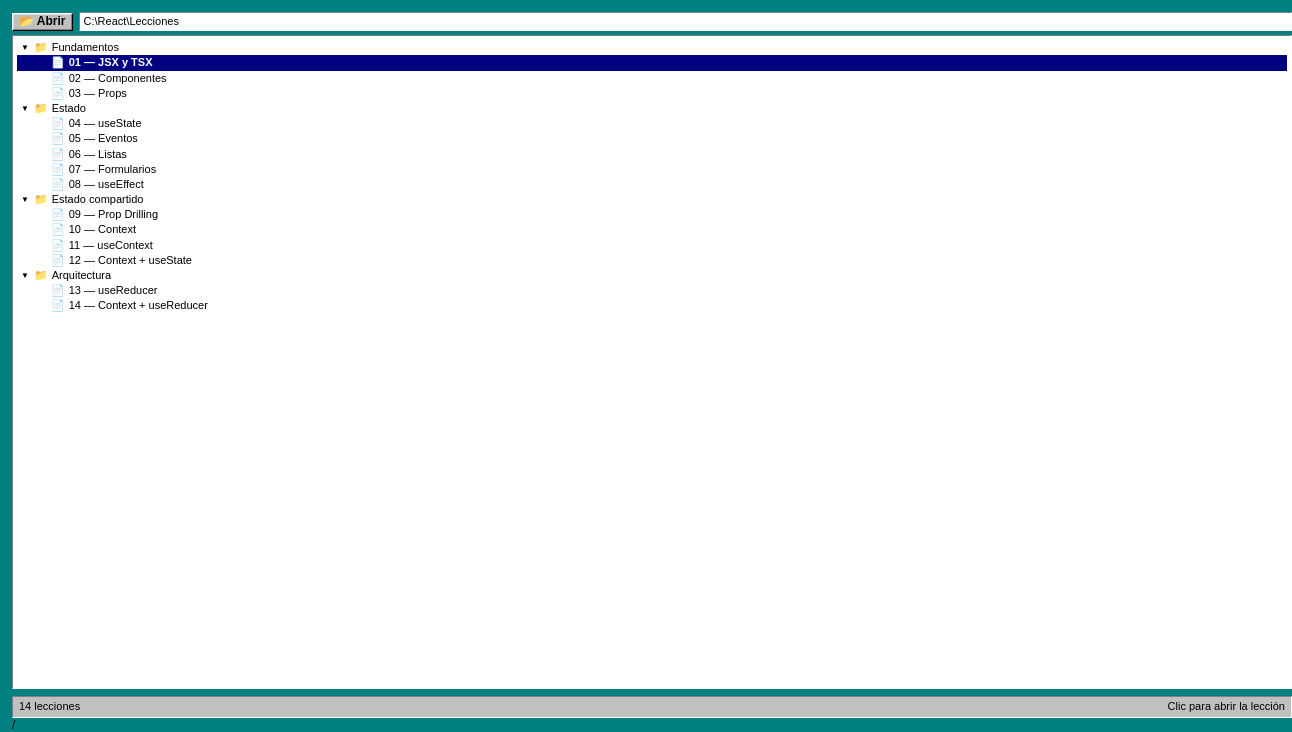
ExplorerWindow › hacer clic en una lección navega a su URL
Click the link "📄 03 — Props" at (89, 93), box [51,87,127,99]
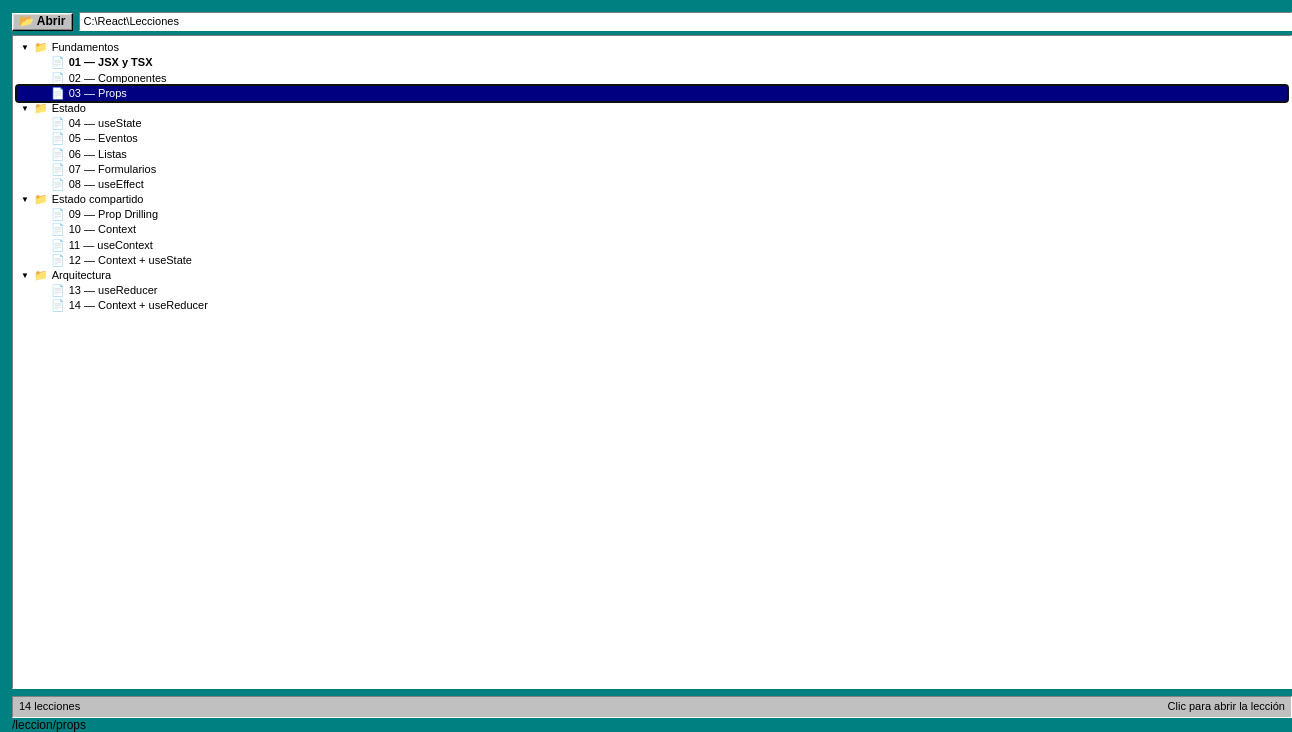
Expected: the text with test id "path" reads "/leccion/props", [12,718,86,731]
